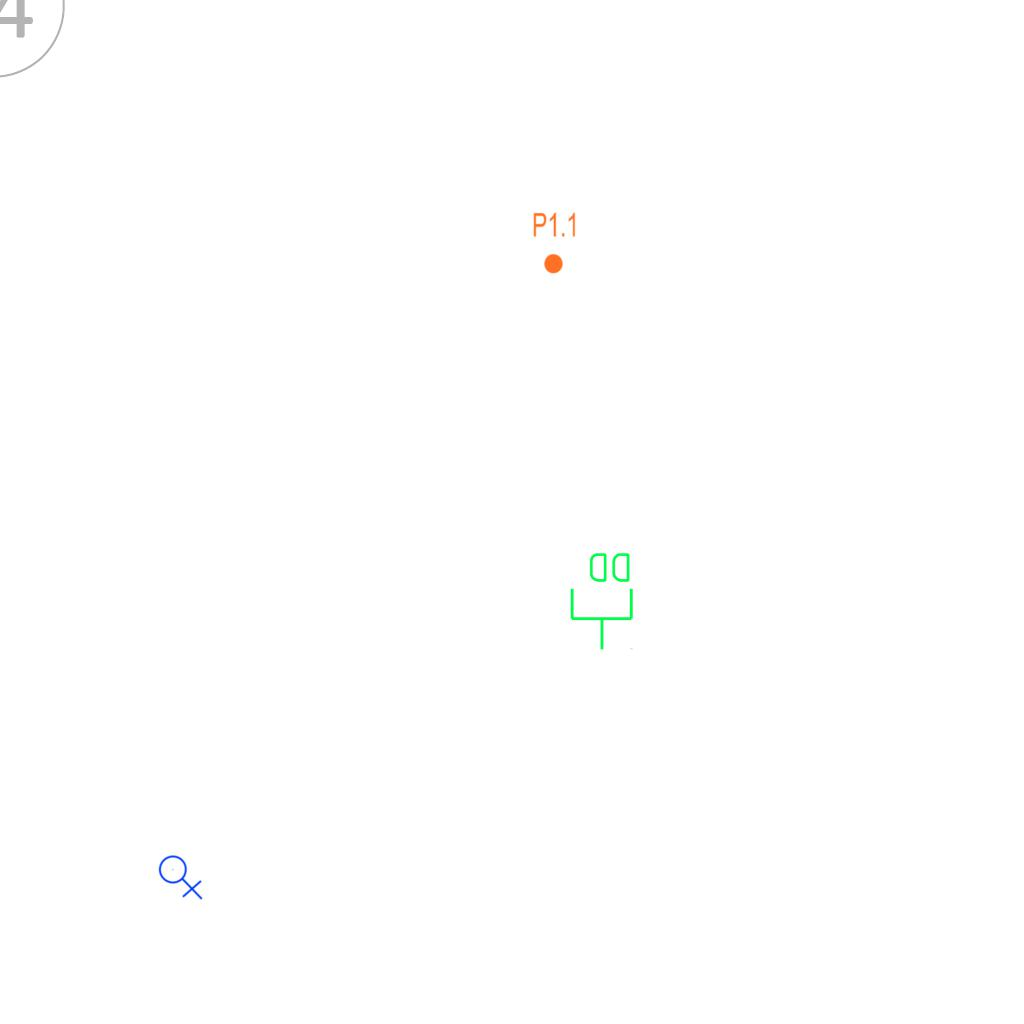Datenanschluss_zweifach: (568, 549, 637, 652)
Downlight_LED_Einbauleuchten_Flur: (532, 211, 578, 275)
Elektroanschluss_allgemein_230V_Geraeteanschlussdose_230V: (158, 851, 205, 900)
